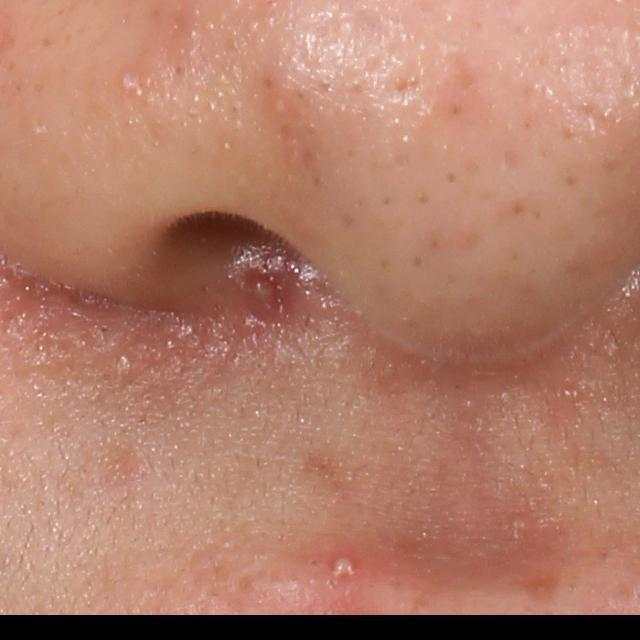pustule: (324, 553, 360, 587), (508, 514, 533, 534)
